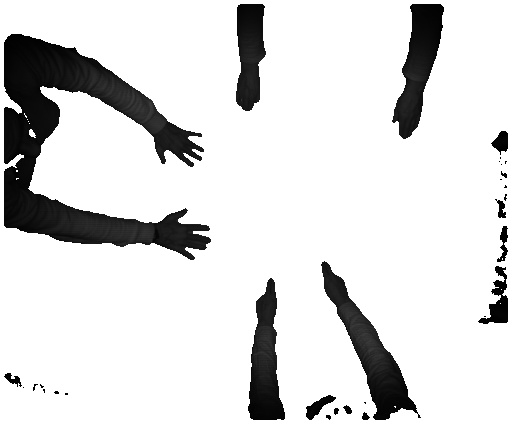hand: (160, 208, 215, 263), (157, 122, 207, 167), (320, 256, 359, 304), (392, 95, 429, 143), (256, 272, 279, 322), (232, 74, 263, 111)
